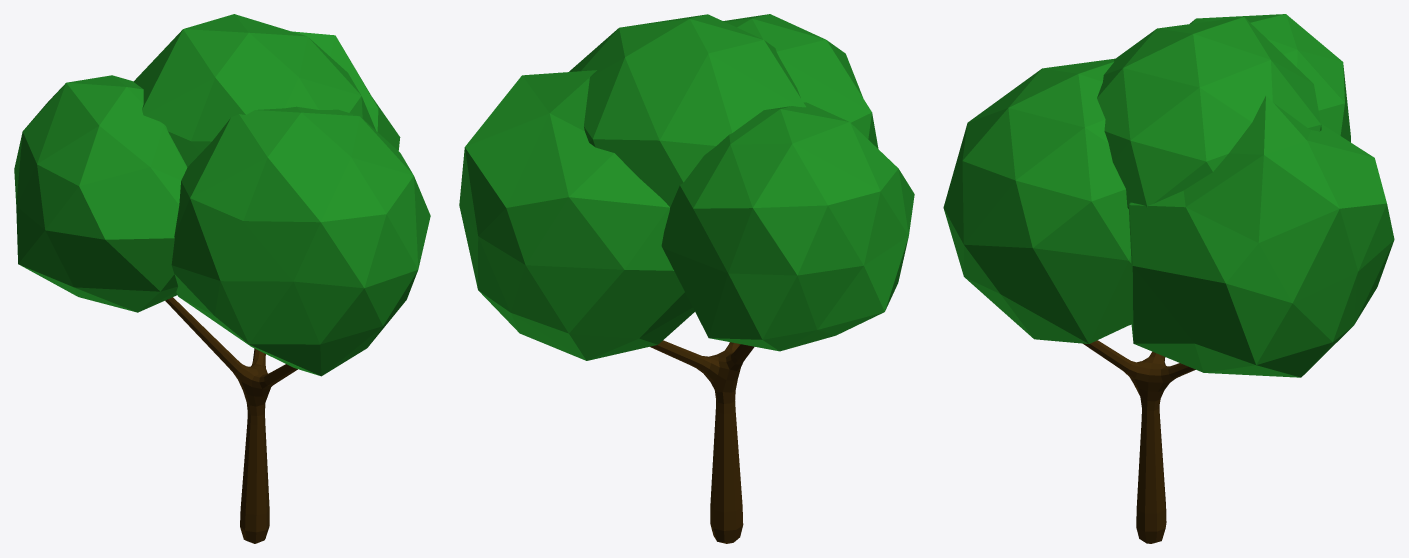
Rendered from Baum 3.fbx.
The picture shows the model from 3 angles, left to right: view 1: azimuth 30°, elevation 25°; view 2: azimuth 150°, elevation 25°; view 3: azimuth 270°, elevation 25°; orthographic projection. The views are drawn at different scales.
Visible parts, largest first — view 1: Icosphere; view 2: Icosphere; view 3: Icosphere.
Boxes of the visible parts, x1,y1,x2,y2 form: Icosphere: (14,14,430,543); Icosphere: (459,14,914,543); Icosphere: (943,14,1394,543).
Size of the model in its own units: 661 by 838 by 662.
1 material, 1 textured.
